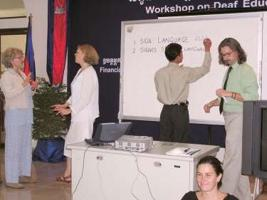person: (157, 38, 213, 142)
